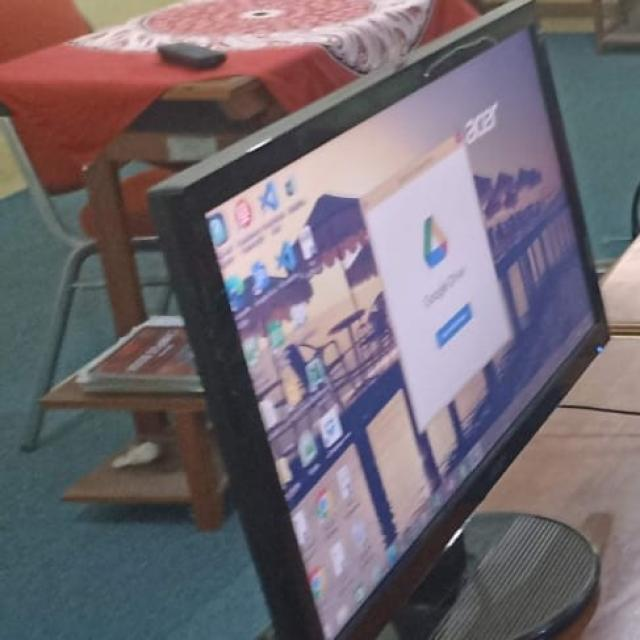onscreen: (150, 1, 609, 639), (431, 515, 599, 639)
